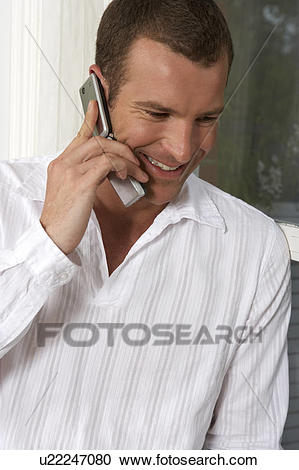phone: (75, 77, 154, 206)
talk: (43, 59, 222, 251)
